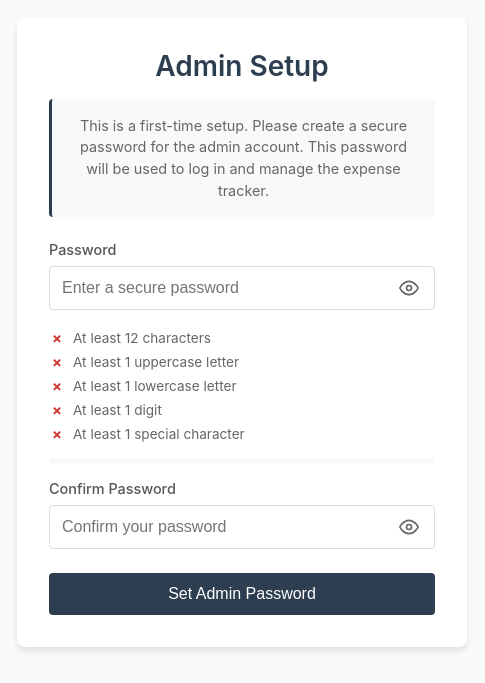
Test: AdminSetupPage › Form validation › shows error when password does not meet complexity requirements
Step 1. Type "weak" into the password field labelled "Password" → (242, 288), box [49, 266, 435, 310]
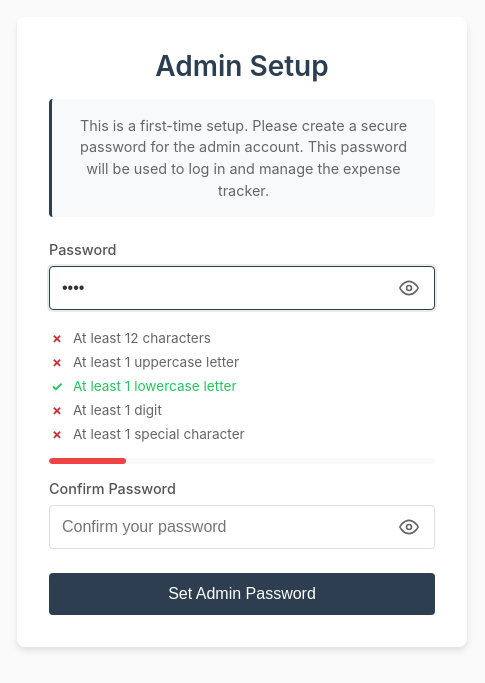
Step 2. Type "weak" into the password field labelled "Confirm Password" → (242, 527), box [49, 505, 435, 549]
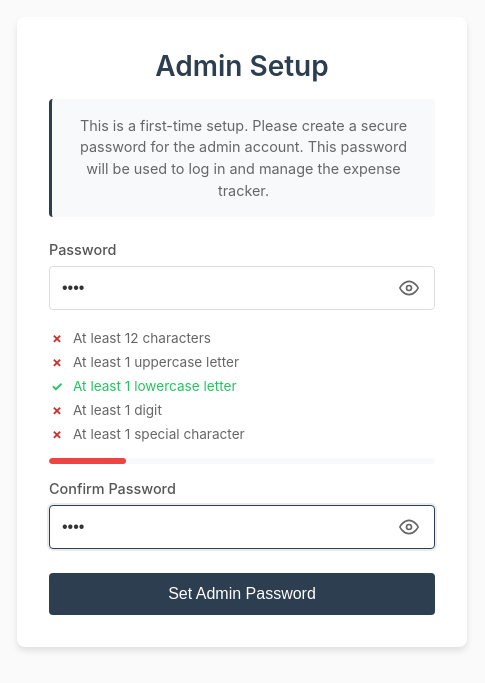
Step 3. Click the button "Set Admin Password" → (242, 594), box [49, 573, 435, 615]
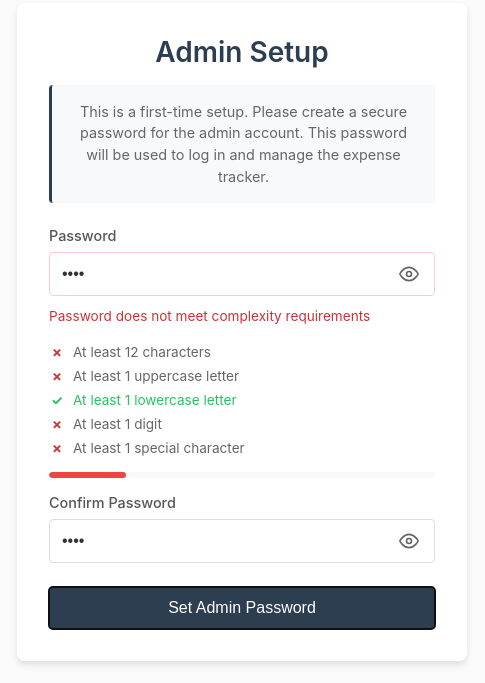
Expected: the message "Password does not meet complexity requirements" is shown, [49, 308, 370, 324]
